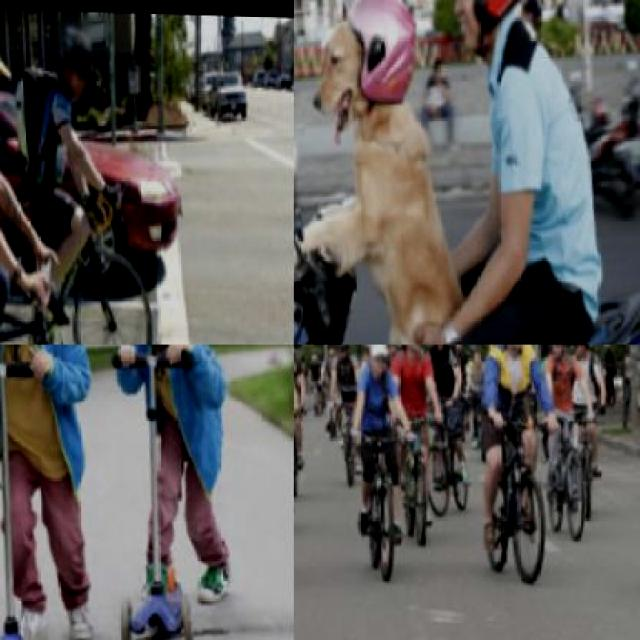With Helmet: (417, 0, 534, 63), (51, 15, 100, 106)
Without Helmet: (0, 8, 17, 126), (368, 345, 394, 380), (498, 344, 534, 354)
